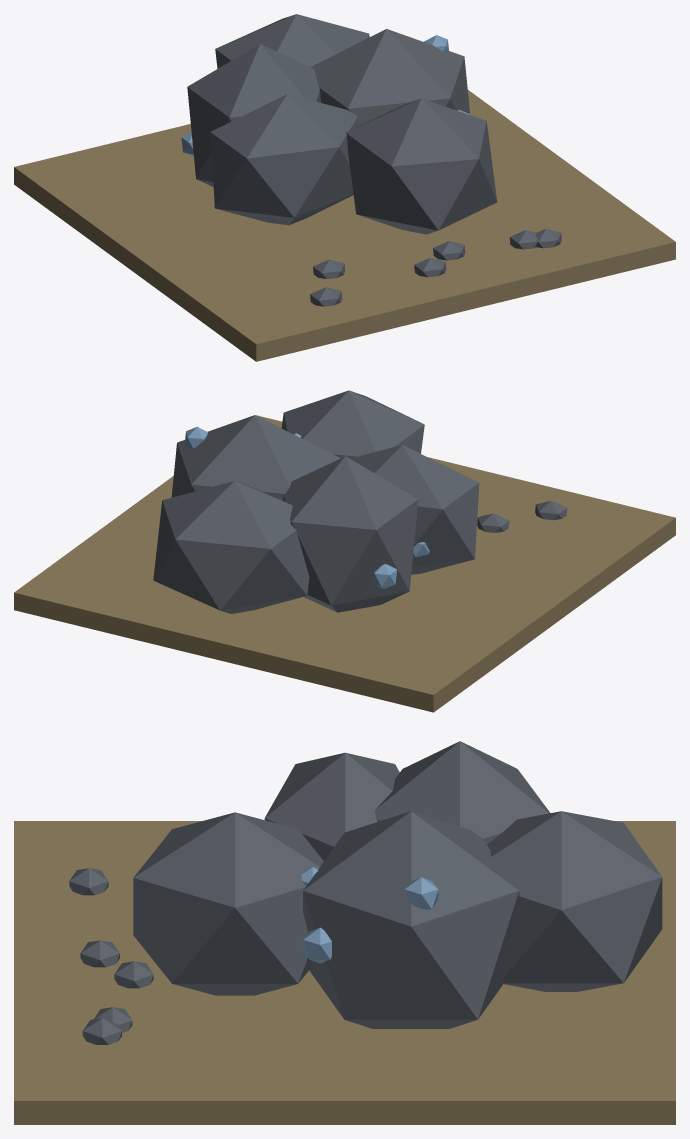
Rendered from Deposit_Titanium_Mining.fbx.
The picture shows the model from 3 angles, top to bottom: view 1: azimuth 30°, elevation 25°; view 2: azimuth 150°, elevation 25°; view 3: azimuth 270°, elevation 25°; orthographic projection. The views are drawn at different scales.
Visible parts, largest first — view 1: Deposit_Titanium_Mining_Body; view 2: Deposit_Titanium_Mining_Body; view 3: Deposit_Titanium_Mining_Body.
Part boxes in pixels (x1,y1,x2,y2): Deposit_Titanium_Mining_Body: (14, 14, 675, 361); Deposit_Titanium_Mining_Body: (14, 390, 675, 712); Deposit_Titanium_Mining_Body: (14, 741, 675, 1124).
Bounding box in the file's own units: 1 × 0.384 × 1.
